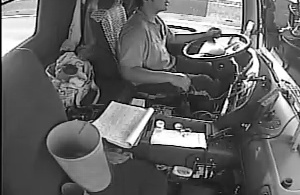cup: (154, 118, 167, 130)
